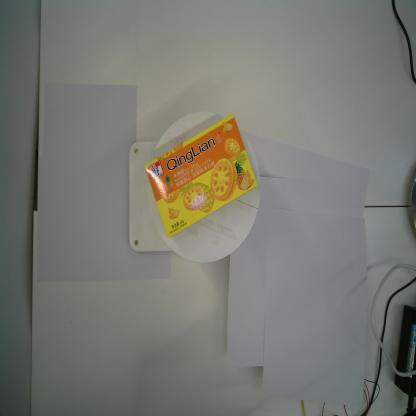Dessert: (144, 112, 257, 240)
